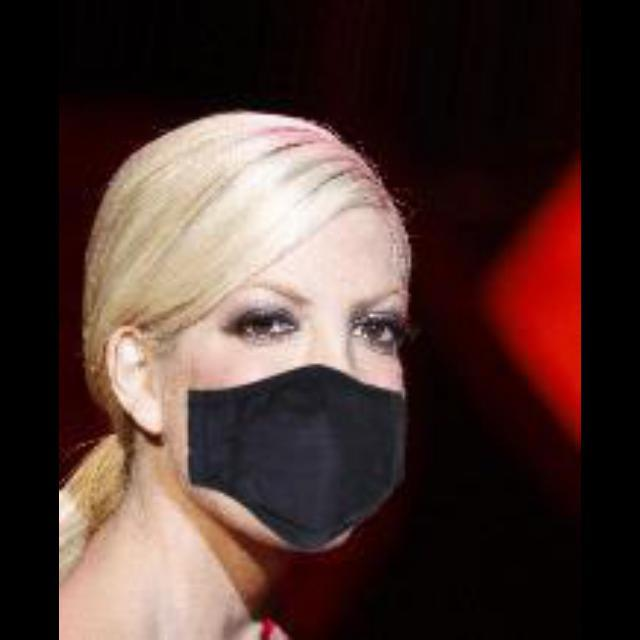suspicion: (99, 111, 421, 557)
